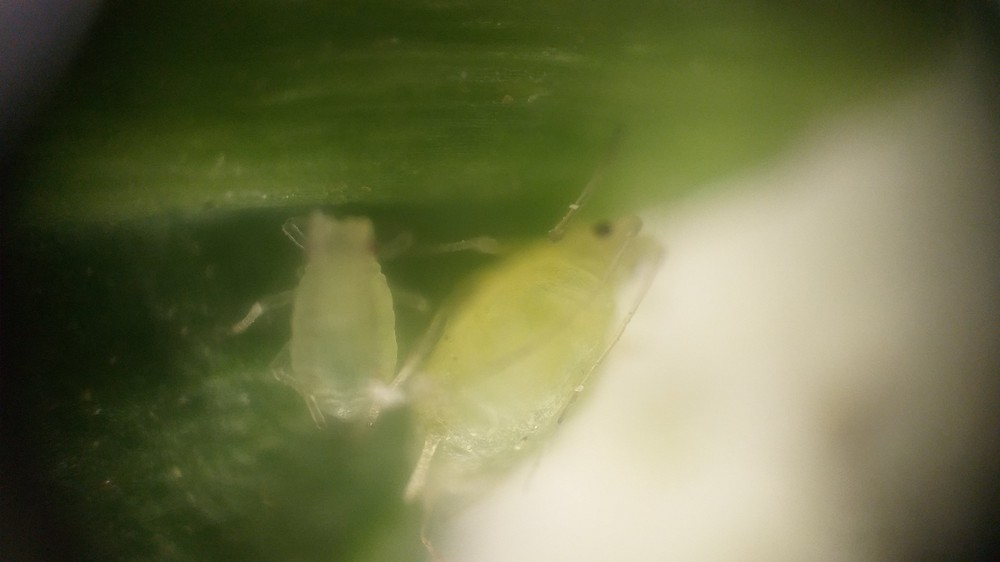Pulgon: (407, 156, 675, 541), (238, 196, 425, 445)
